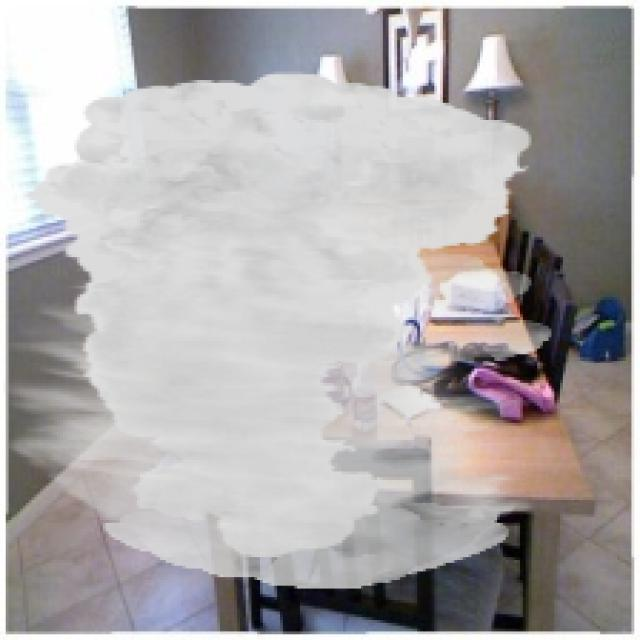smoke: (3, 71, 551, 588)
